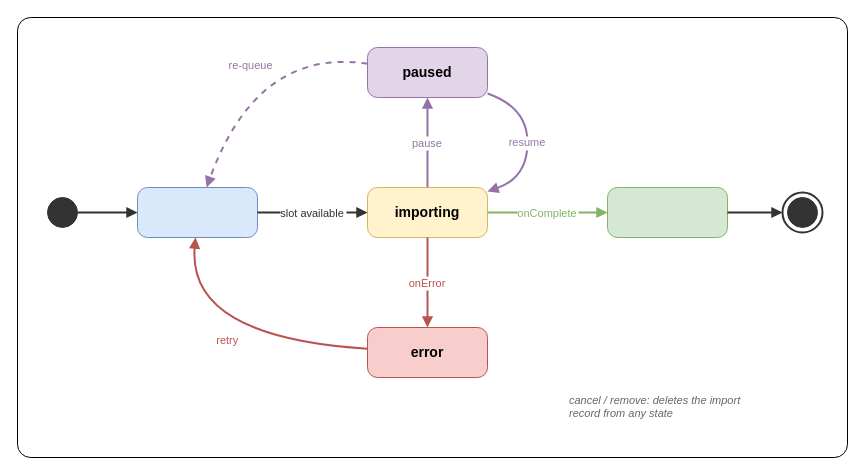
The diagram is 865 pixels wide and 475 high, and some of its shapes have lost their labels. The centre of each missing label's shape, as x and y in pixels:
completed: [667,212]
queued: [197,212]
